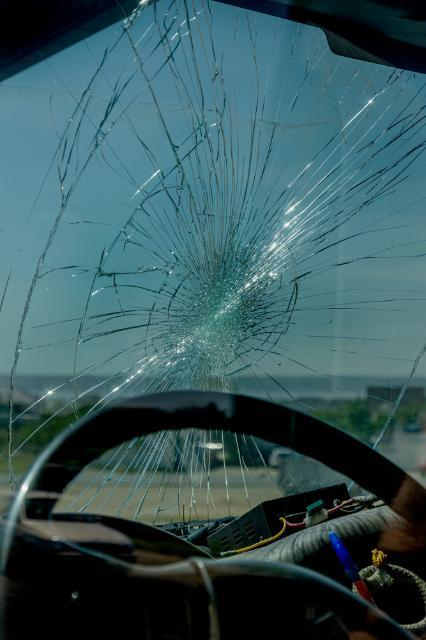glass shatter: (0, 0, 426, 526)
